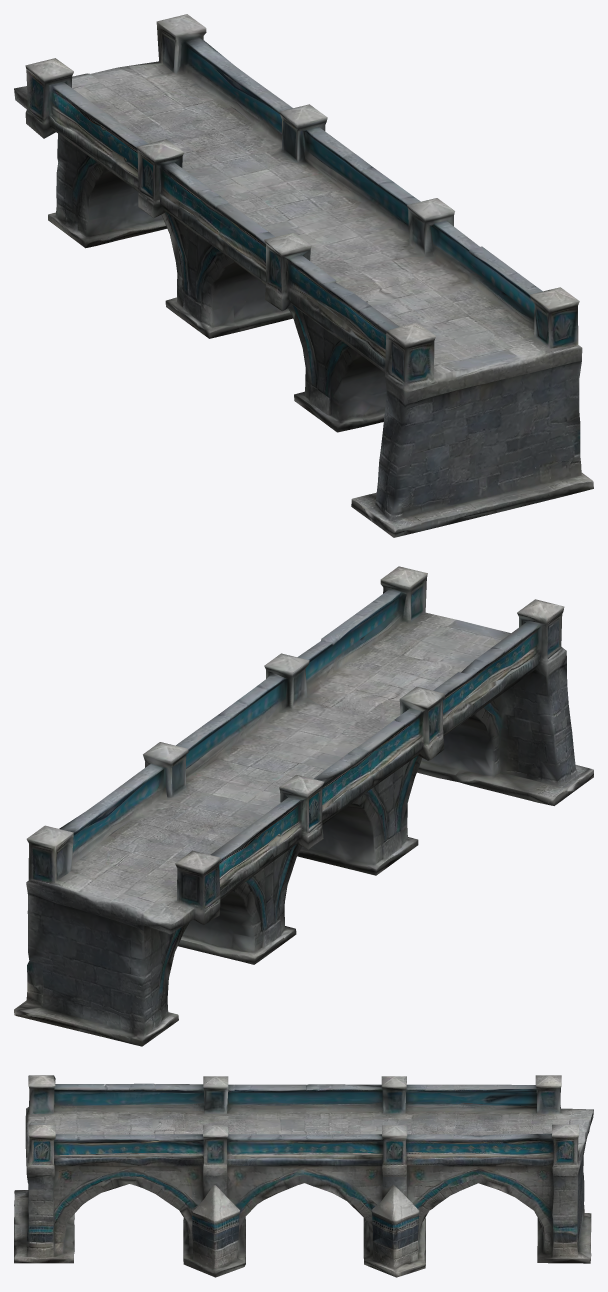
The model's file is bridge_stone_1.glb.
3 renders of one model, top to bottom at view 1: azimuth 30°, elevation 25°; view 2: azimuth 150°, elevation 25°; view 3: azimuth 270°, elevation 25°, orthographic. The views are drawn at different scales.
Parts seen in each view (by area): view 1: tripo_node_724d1623-dc5e-48fa-b8e4-b1de8e89145e; view 2: tripo_node_724d1623-dc5e-48fa-b8e4-b1de8e89145e; view 3: tripo_node_724d1623-dc5e-48fa-b8e4-b1de8e89145e.
Part boxes in pixels (x1,y1,x2,y2): tripo_node_724d1623-dc5e-48fa-b8e4-b1de8e89145e: [14, 14, 593, 537]; tripo_node_724d1623-dc5e-48fa-b8e4-b1de8e89145e: [14, 566, 593, 1046]; tripo_node_724d1623-dc5e-48fa-b8e4-b1de8e89145e: [14, 1075, 593, 1277].
Bounding box in the file's own units: 0.3309 × 0.246 × 0.9781.
1 material, 1 textured.
